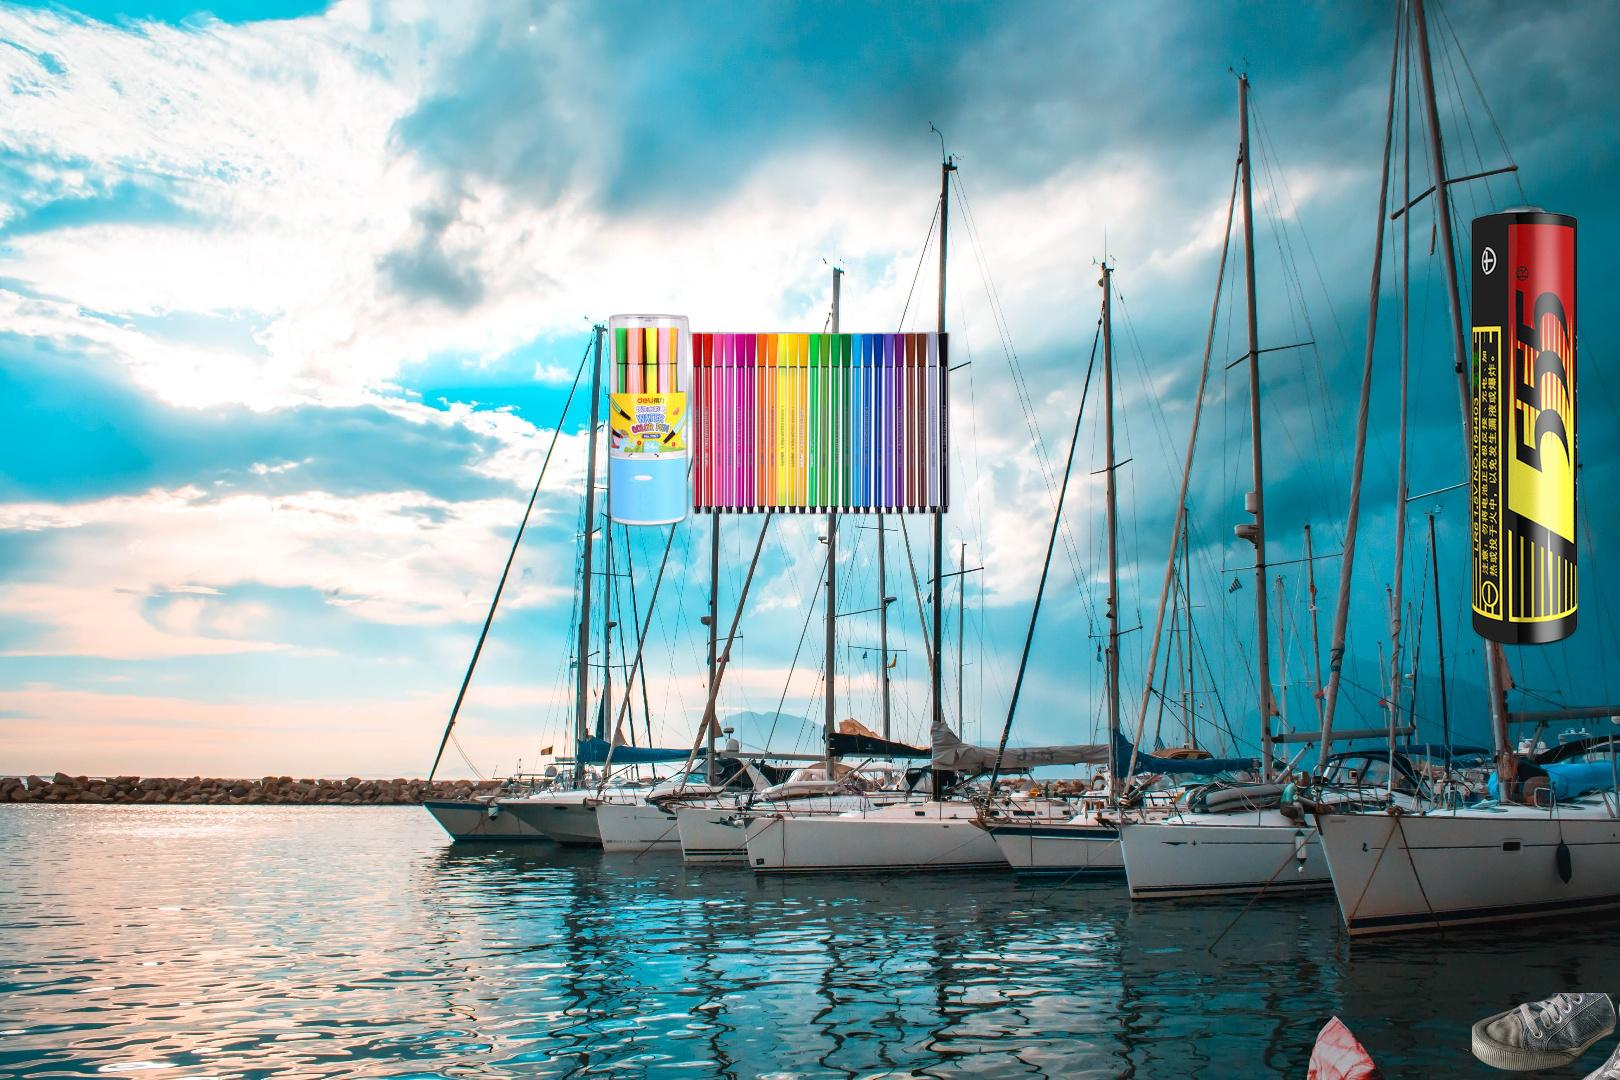battery: (1465, 199, 1620, 651)
penholder: (606, 311, 953, 528)
plastic-bag: (1305, 1012, 1396, 1080)
shoes: (1472, 993, 1620, 1080)
